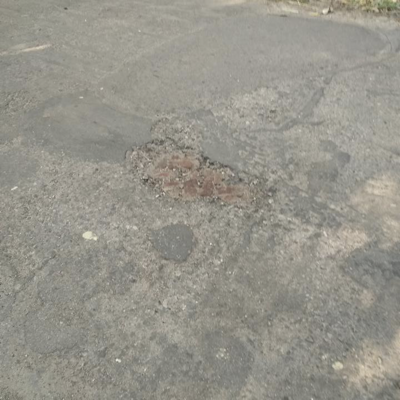pothole: (123, 137, 267, 215)
